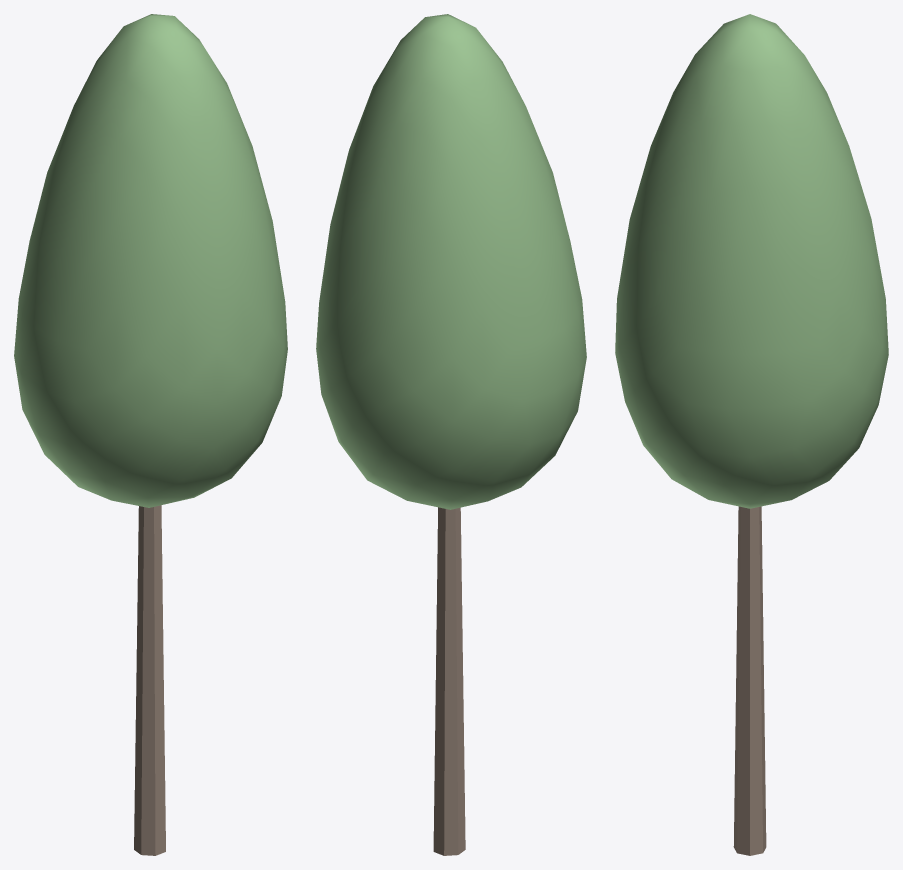
The model's file is tree-conifer-b.glb.
3 views of the same model, side by side, from view 1: azimuth 30°, elevation 25°; view 2: azimuth 150°, elevation 25°; view 3: azimuth 270°, elevation 25° (orthographic).
Visible parts, largest first — view 1: tree-conifer-b; view 2: tree-conifer-b; view 3: tree-conifer-b.
Boxes of the visible parts, x1=… form: tree-conifer-b: x1=14, y1=14, x2=287, y2=855; tree-conifer-b: x1=316, y1=14, x2=586, y2=855; tree-conifer-b: x1=615, y1=14, x2=888, y2=855.
Size of the model in its own units: 0.2944 by 1 by 0.2971.
